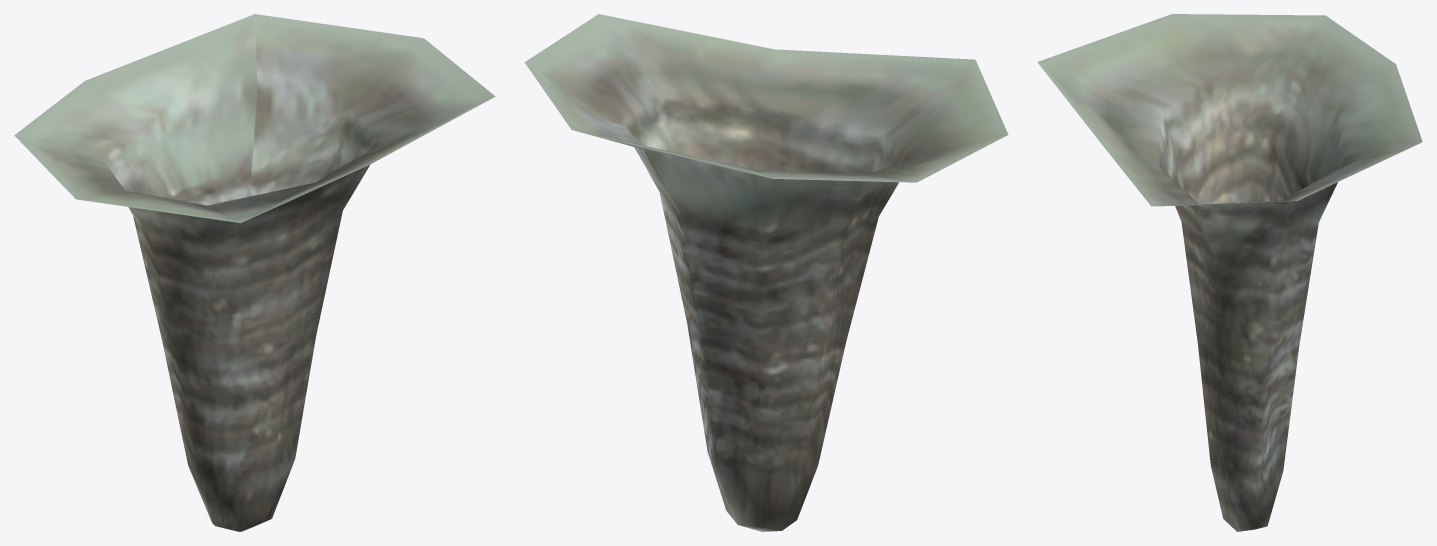
Rendered from TROLLHOLE02_PS-MAINSTALAG88.fbx.
The picture shows the model from 3 angles, left to right: view 1: azimuth 30°, elevation 25°; view 2: azimuth 150°, elevation 25°; view 3: azimuth 270°, elevation 25°; orthographic projection. The views are drawn at different scales.
Visible parts, largest first — view 1: TROLLHOLE02_PS-MAINSTALAG88; view 2: TROLLHOLE02_PS-MAINSTALAG88; view 3: TROLLHOLE02_PS-MAINSTALAG88.
Boxes of the visible parts, x1=… form: TROLLHOLE02_PS-MAINSTALAG88: x1=14, y1=14, x2=495, y2=531; TROLLHOLE02_PS-MAINSTALAG88: x1=524, y1=14, x2=1008, y2=531; TROLLHOLE02_PS-MAINSTALAG88: x1=1037, y1=14, x2=1422, y2=531.
Bounding box in the file's own units: 22103 × 22198 × 17727.
1 material, 1 textured.
